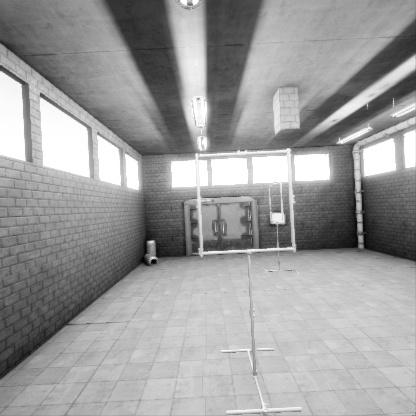gate: (199, 166, 300, 267), (268, 193, 283, 236)
